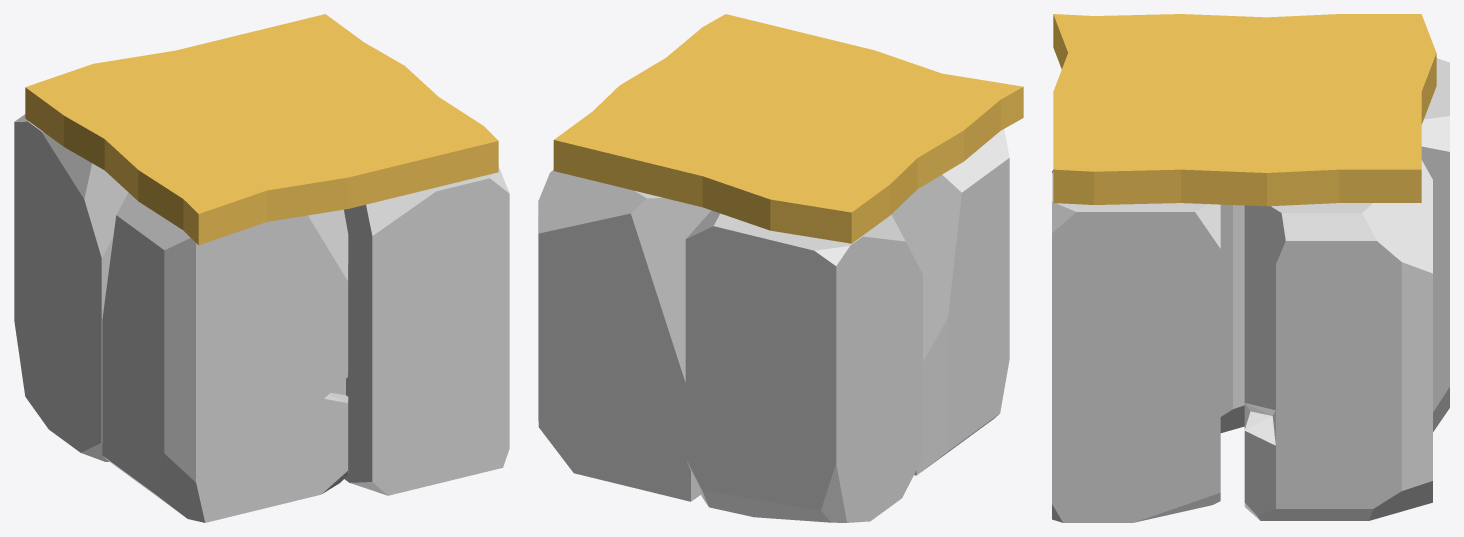
File: Island2.gltf
3 views of the same model, side by side, from view 1: azimuth 30°, elevation 25°; view 2: azimuth 150°, elevation 25°; view 3: azimuth 270°, elevation 25° (orthographic). The views are drawn at different scales.
Parts seen in each view (by area): view 1: Cube.015, Cube, Cube.013, Cube.012; view 2: Cube.012, Cube, Cube.014, Cube.015; view 3: Cube, Cube.014, Cube.013, Cube.012, Cube.015.
Boxes of the visible parts, box(x1,y1,x2,y2) form: Cube.015: box(102, 192, 348, 522); Cube: box(25, 14, 498, 245); Cube.013: box(344, 166, 509, 495); Cube.012: box(14, 114, 128, 461); Cube.012: box(685, 210, 922, 522); Cube: box(553, 14, 1023, 243); Cube.014: box(538, 170, 711, 501); Cube.015: box(891, 129, 1009, 475); Cube: box(1053, 14, 1436, 206); Cube.014: box(1244, 160, 1432, 520); Cube.013: box(1052, 170, 1220, 522); Cube.012: box(1421, 58, 1449, 431); Cube.015: box(1220, 204, 1244, 432).
Size of the model in its own units: 2.39 by 2.23 by 2.31.
